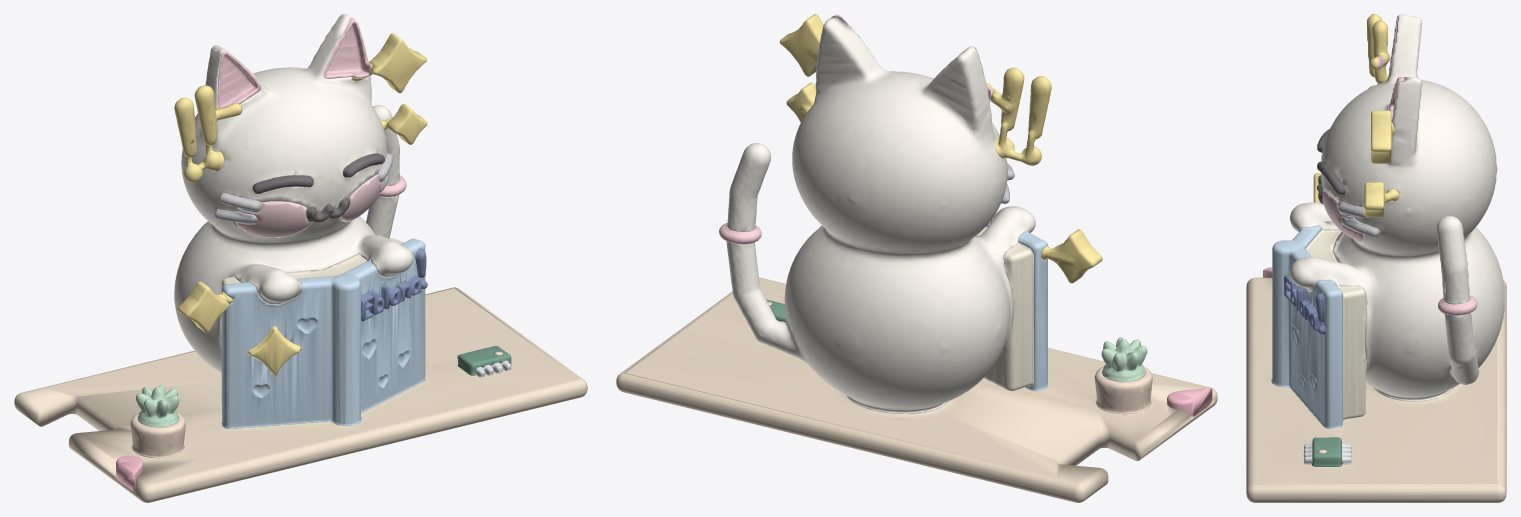
The model's file is pair-cat.glb.
3 renders of one model, left to right at view 1: azimuth 30°, elevation 25°; view 2: azimuth 150°, elevation 25°; view 3: azimuth 270°, elevation 25°, orthographic. The views are drawn at different scales.
Visible parts, largest first — view 1: 15_wood, 11_cream, 13_cover, 08_yellow, 07_pinkacc, 06_blush, 01_black, 14_pot, 03_text, 09_leaf, 02_whisker, 12_pages (+2 smaller); view 2: 11_cream, 15_wood, 08_yellow, 12_pages, 13_cover, 14_pot, 09_leaf, 16_heart, 07_pinkacc; view 3: 11_cream, 15_wood, 13_cover, 12_pages, 08_yellow, 03_text, 07_pinkacc, 10_chip, 02_whisker, 01_black, 06_blush, 05_pins.
Part boxes in pixels (left/top/right/bottom): 15_wood: left=14, top=287, right=587, bottom=502; 11_cream: left=174, top=14, right=413, bottom=372; 13_cover: left=221, top=238, right=425, bottom=428; 08_yellow: left=174, top=33, right=427, bottom=375; 07_pinkacc: left=217, top=18, right=406, bottom=197; 06_blush: left=235, top=174, right=383, bottom=237; 01_black: left=252, top=153, right=384, bottom=222; 14_pot: left=130, top=412, right=185, bottom=458; 03_text: left=361, top=248, right=427, bottom=321; 09_leaf: left=136, top=385, right=179, bottom=427; 02_whisker: left=214, top=153, right=393, bottom=224; 12_pages: left=220, top=238, right=403, bottom=403; 11_cream: left=726, top=16, right=1035, bottom=413; 15_wood: left=616, top=277, right=1217, bottom=502; 08_yellow: left=779, top=14, right=1102, bottom=283; 12_pages: left=976, top=226, right=1033, bottom=390; 13_cover: left=986, top=221, right=1048, bottom=391; 14_pot: left=1094, top=366, right=1152, bottom=414; 09_leaf: left=1101, top=337, right=1147, bottom=381; 16_heart: left=1167, top=387, right=1212, bottom=416; 07_pinkacc: left=719, top=14, right=992, bottom=244; 11_cream: left=1289, top=14, right=1504, bottom=401; 15_wood: left=1246, top=277, right=1506, bottom=502; 13_cover: left=1271, top=226, right=1342, bottom=428; 12_pages: left=1305, top=229, right=1367, bottom=419; 08_yellow: left=1313, top=14, right=1399, bottom=217; 03_text: left=1284, top=274, right=1325, bottom=334; 07_pinkacc: left=1378, top=15, right=1477, bottom=315; 10_chip: left=1312, top=437, right=1342, bottom=466; 02_whisker: left=1338, top=201, right=1380, bottom=236; 01_black: left=1317, top=129, right=1345, bottom=204; 06_blush: left=1322, top=191, right=1362, bottom=240; 05_pins: left=1303, top=443, right=1351, bottom=464.
Size of the model in its own units: 0.6193 by 0.478 by 0.319.
2 materials, 2 textured.
